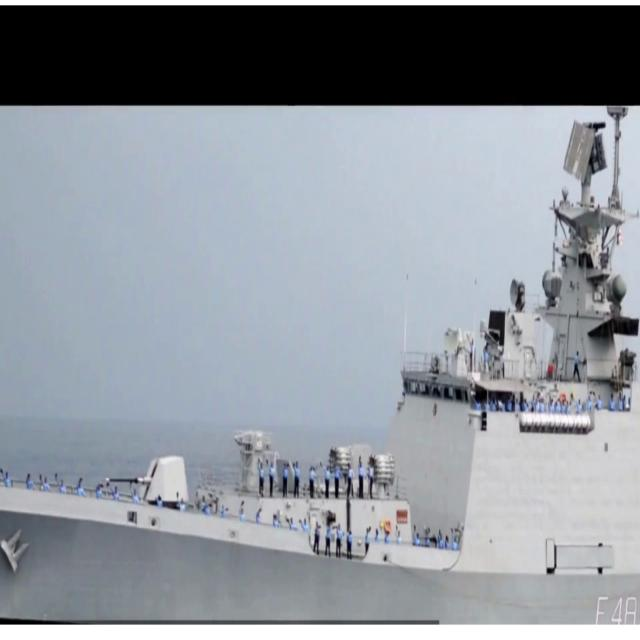OCR: (592, 586, 638, 623)
